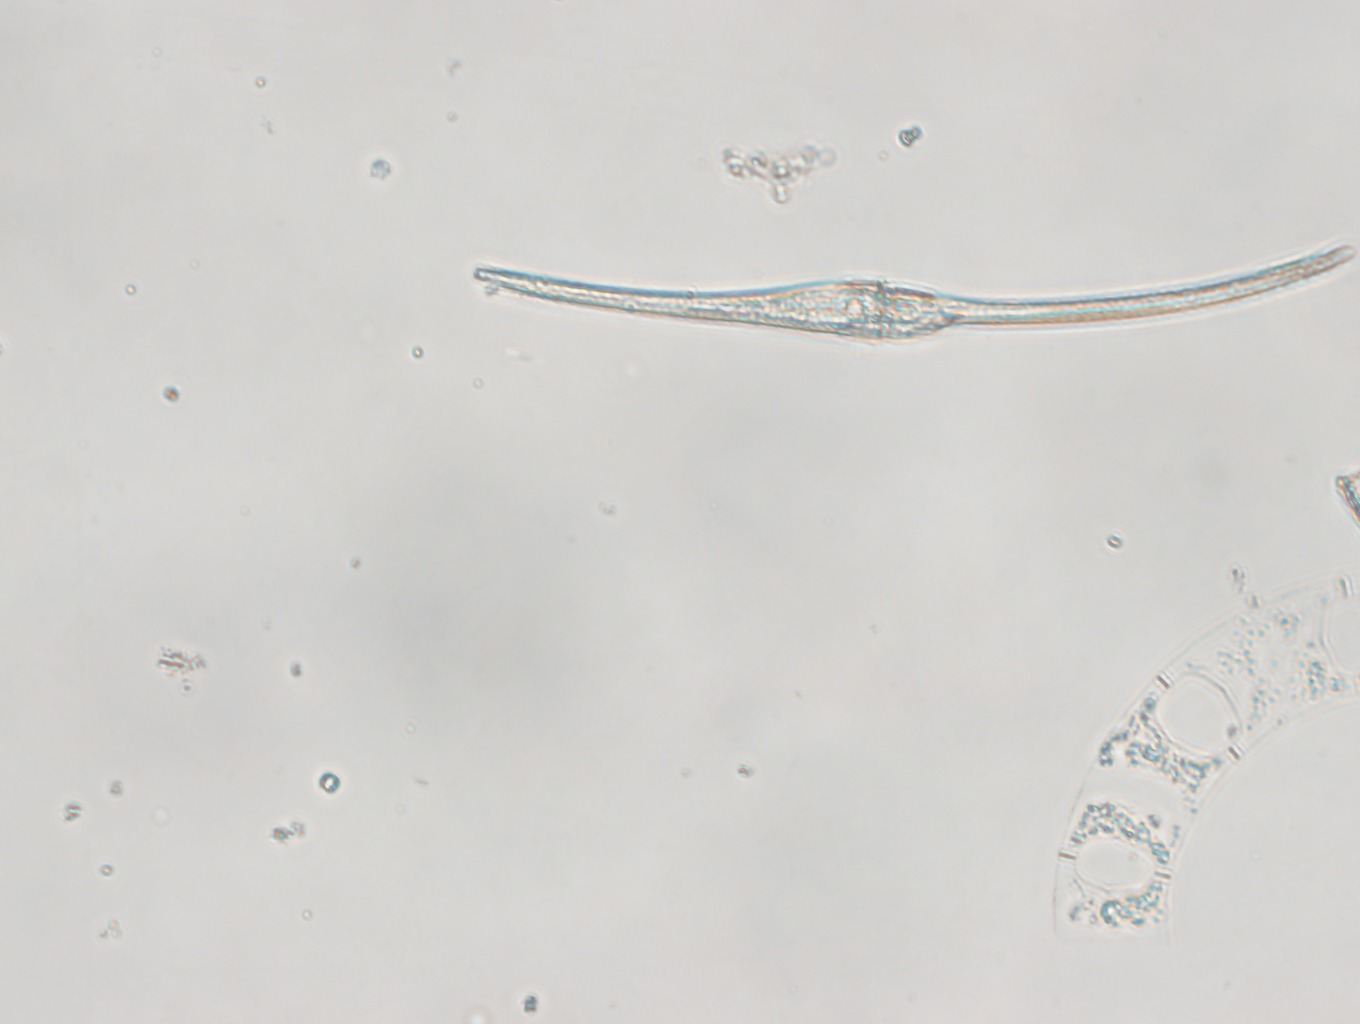ceratium fusus: (473, 245, 1357, 340)
eucampia: (1053, 571, 1360, 935)
